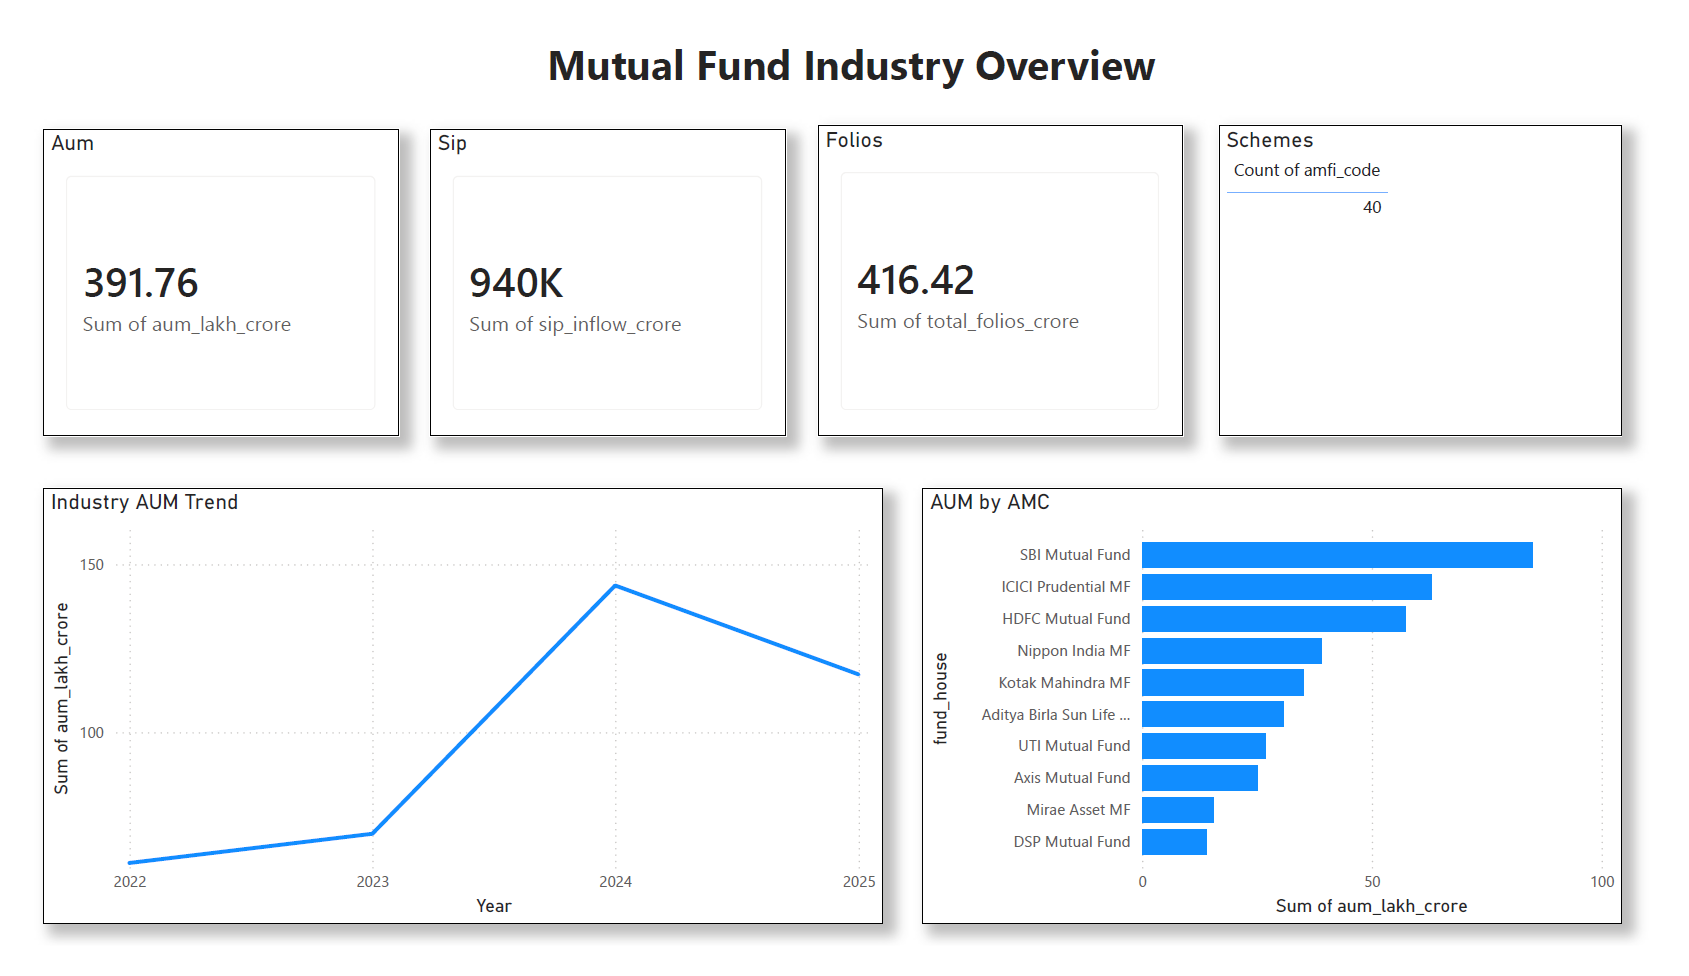

The dashboard page shown, as its layout file describes it:
{"tool":"powerbi","page":{"name":"Page 1","canvas":[1280,720],"ordinal":0},"visuals":[{"type":"textbox","box":[9.6,0,1270.7,279.9],"z":0},{"type":"cardVisual","title":"Aum","fields":{"Data":["Sum(03_aum_by_fund_house.aum_lakh_crore)"]},"box":[9.6,78.2,279.9,241.5],"z":1000},{"type":"cardVisual","title":"Folios","fields":{"Data":["Sum(06_industry_folio_count.total_folios_crore)"]},"box":[618.9,75.5,286.8,244.3],"z":2000},{"type":"cardVisual","title":"Sip","fields":{"Data":["Sum(04_monthly_sip_inflows.sip_inflow_crore)"]},"box":[314.2,78.2,279.9,241.5],"z":3000},{"type":"tableEx","title":"Schemes","fields":{"Values":["01_fund_master.amfi_code"]},"box":[934.5,75.5,317,244.3],"z":4000},{"type":"lineChart","title":"Industry AUM Trend","fields":{"Y":["Sum(03_aum_by_fund_house.aum_lakh_crore)"],"Category":["03_aum_by_fund_house.date.Variation.Date Hierarchy.Year","03_aum_by_fund_house.date.Variation.Date Hierarchy.Quarter","03_aum_by_fund_house.date.Variation.Date Hierarchy.Month","03_aum_by_fund_house.date.Variation.Date Hierarchy.Day"]},"box":[9.6,359.5,660,343.1],"z":5000},{"type":"clusteredBarChart","title":"AUM by AMC ","fields":{"Category":["03_aum_by_fund_house.fund_house"],"Y":["Sum(03_aum_by_fund_house.aum_lakh_crore)"]},"box":[701.2,359.5,550.3,343.1],"z":6000}]}

Visuals, with their boxes in screenshot pixels (x1, y1, x2, y2), scaled from the page's 1280x720 canvas onto the 1689x976 screenshot:
textbox: 13,0,1688,379
"Aum" cardVisual: 13,106,382,433
"Folios" cardVisual: 817,102,1195,434
"Sip" cardVisual: 415,106,784,433
"Schemes" tableEx: 1233,102,1651,434
"Industry AUM Trend" lineChart: 13,487,884,952
"AUM by AMC " clusteredBarChart: 925,487,1651,952
